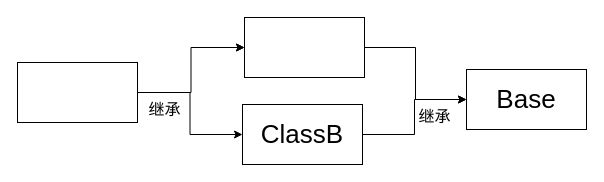
The diagram is 604 pixels wide and 182 high, and some of its shapes have lost their labels. Here are the shapes that lost their labels. From the top down, the centre of each, then its label:
pixel 304 47: ClassA
pixel 77 92: Son
